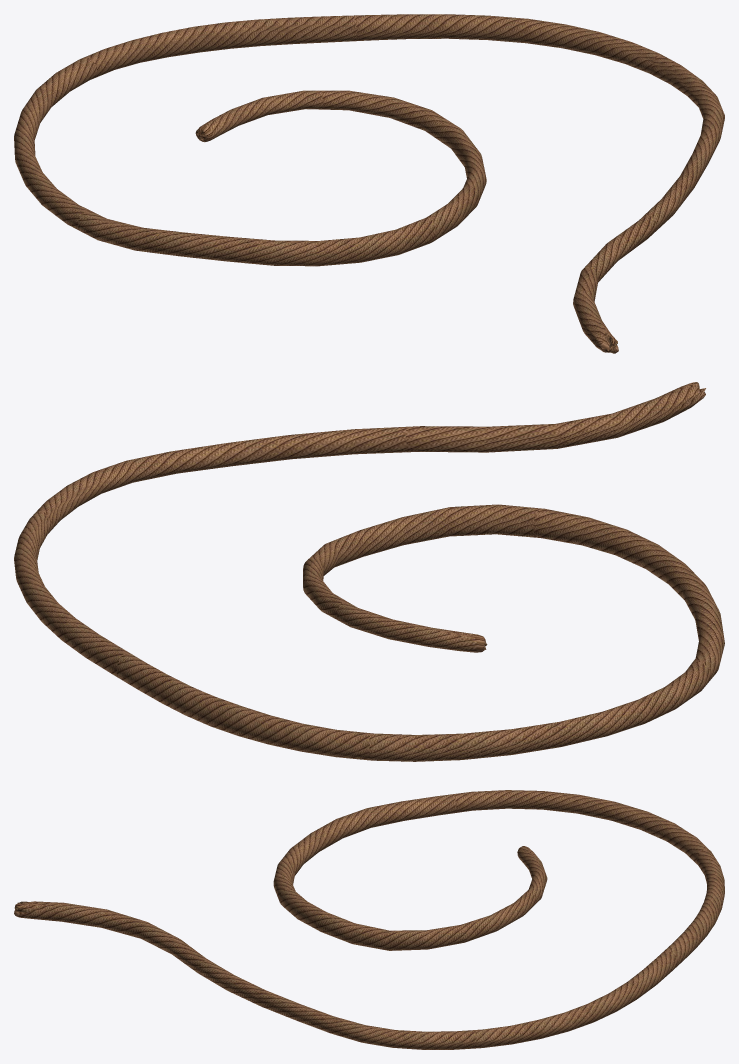
The model's file is rope.FBX.
The picture shows the model from 3 angles, top to bottom: view 1: azimuth 30°, elevation 25°; view 2: azimuth 150°, elevation 25°; view 3: azimuth 270°, elevation 25°; orthographic projection. The views are drawn at different scales.
Visible parts, largest first — view 1: rope; view 2: rope; view 3: rope.
Boxes of the visible parts, <box> form: rope: <box>14,14,724,353</box>; rope: <box>14,382,724,761</box>; rope: <box>14,790,724,1049</box>.
Size of the model in its own units: 136 by 8.81 by 163.
